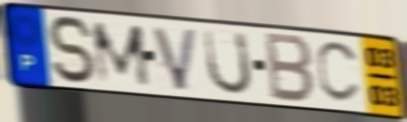B: (264, 30, 317, 106)
C: (314, 40, 362, 106)
M: (88, 21, 154, 89)
S: (45, 14, 101, 87)
U: (202, 27, 255, 98)
V: (149, 24, 201, 93)
